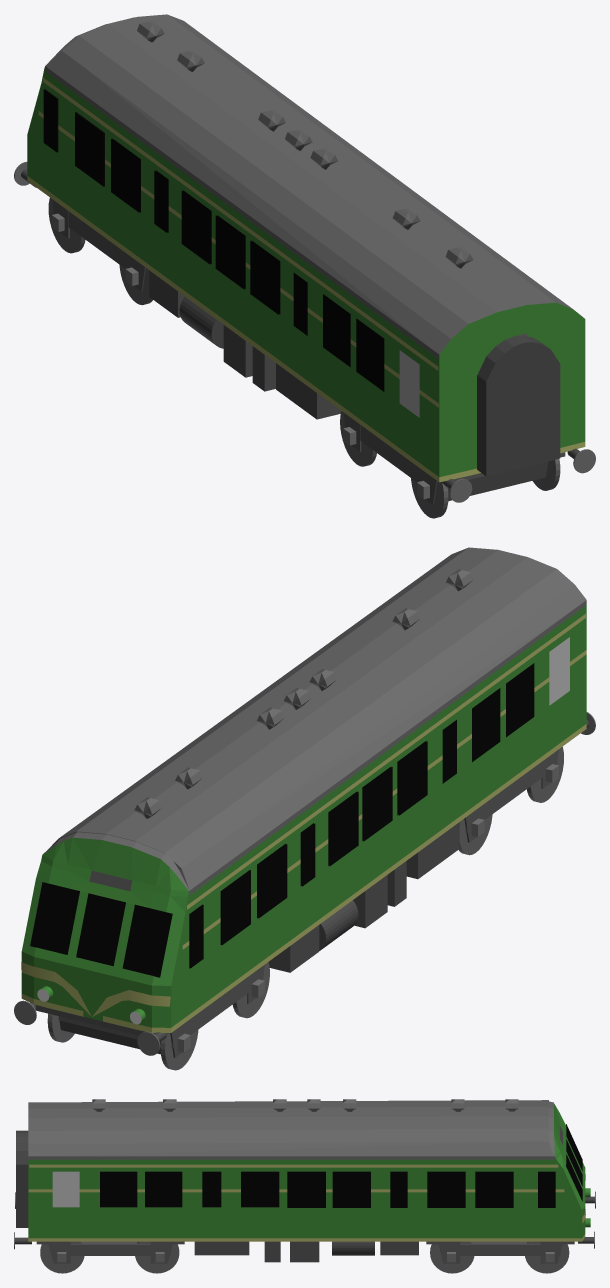
The model's file is BR-101-dtcl-g.dae.
3 views of the same model, one above another, from view 1: azimuth 30°, elevation 25°; view 2: azimuth 150°, elevation 25°; view 3: azimuth 270°, elevation 25° (orthographic). The views are drawn at different scales.
Parts seen in each view (by area): view 1: BR-cl101-front_rear, Cube, Plane_003, Cube_060_001, Cube_001, Cube_043, Cube_043_001, Cylinder_002, Cube_003, Cube_004, Cube_002, Cylinder_011_001 (+1 smaller); view 2: BR-cl101-front_rear, Plane_003, Cube_043, Plane_032, Cube_001, Cube_043_001, Cube_004, Cube_003, Cube_061, Cylinder_002, Cylinder_010, Cube_002 (+1 smaller); view 3: BR-cl101-front_rear, Plane_004, Cube_043, Cube_043_001, Cube, Cube_001, Plane_001, Cube_003, Cylinder_008_001, Cylinder_003, Cylinder_008, Cylinder_009_001 (+7 smaller).
Boxes of the visible parts, left/top/right/bottom form: BR-cl101-front_rear: left=27, top=14, right=585, bottom=482; Cube: left=477, top=335, right=560, bottom=476; Plane_003: left=43, top=77, right=438, bottom=370; Cube_060_001: left=425, top=452, right=565, bottom=504; Cube_001: left=276, top=363, right=341, bottom=419; Cube_043: left=53, top=211, right=142, bottom=281; Cube_043_001: left=360, top=425, right=433, bottom=494; Cylinder_002: left=179, top=296, right=223, bottom=348; Cube_003: left=223, top=325, right=252, bottom=377; Cube_004: left=149, top=270, right=184, bottom=317; Cube_002: left=252, top=346, right=275, bottom=391; Cylinder_011_001: left=411, top=478, right=448, bottom=518; BR-cl101-front_rear: left=21, top=547, right=586, bottom=1035; Plane_003: left=187, top=614, right=585, bottom=909; Cube_043: left=58, top=967, right=262, bottom=1047; Plane_032: left=21, top=962, right=170, bottom=1016; Cube_001: left=406, top=822, right=459, bottom=879; Cube_043_001: left=465, top=751, right=556, bottom=832; Cube_004: left=268, top=925, right=319, bottom=972; Cube_003: left=353, top=875, right=387, bottom=928; Cube_061: left=59, top=1020, right=187, bottom=1057; Cylinder_002: left=319, top=900, right=358, bottom=950; Cylinder_010: left=160, top=1030, right=198, bottom=1070; Cube_002: left=387, top=861, right=406, bottom=906; BR-cl101-front_rear: left=28, top=1099, right=585, bottom=1241; Plane_004: left=29, top=1164, right=558, bottom=1167; Cube_043: left=460, top=1241, right=560, bottom=1255; Cube_043_001: left=70, top=1241, right=170, bottom=1255; Cube: left=16, top=1130, right=28, bottom=1227; Cube_001: left=194, top=1241, right=249, bottom=1255; Plane_001: left=28, top=1189, right=564, bottom=1192; Cube_003: left=290, top=1241, right=319, bottom=1262; Cylinder_008_001: left=40, top=1241, right=84, bottom=1273; Cylinder_003: left=332, top=1241, right=374, bottom=1255; Cylinder_008: left=430, top=1241, right=474, bottom=1273; Cylinder_009_001: left=135, top=1241, right=179, bottom=1273.
Size of the model in its own units: 2.04 by 10.32 by 3.05.
